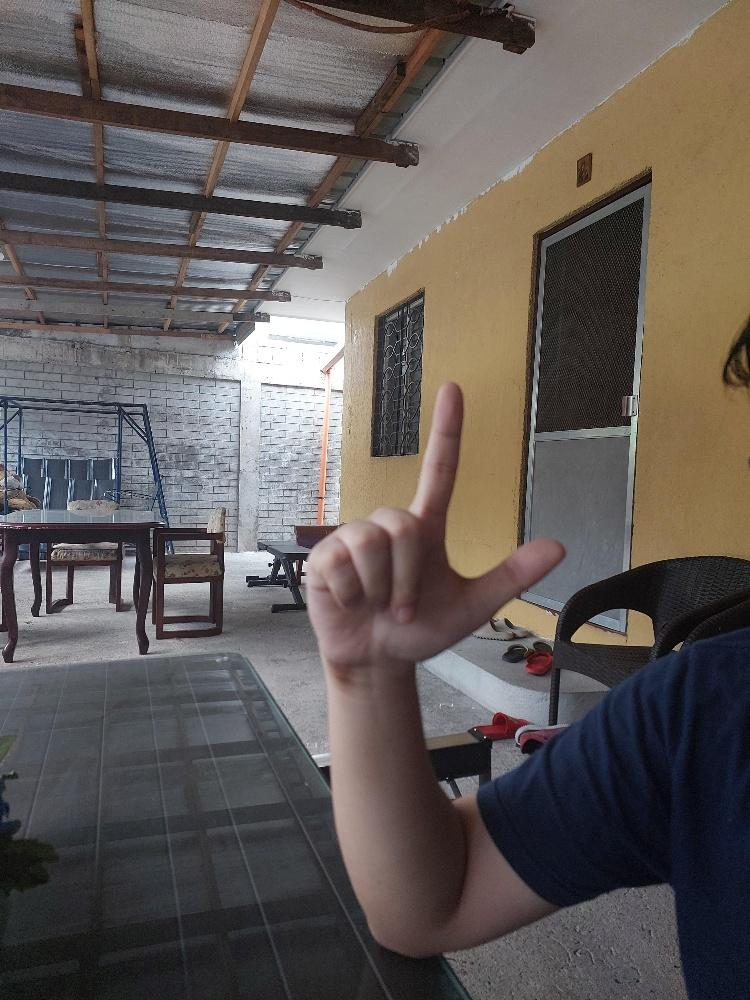l: (303, 374, 567, 670)
